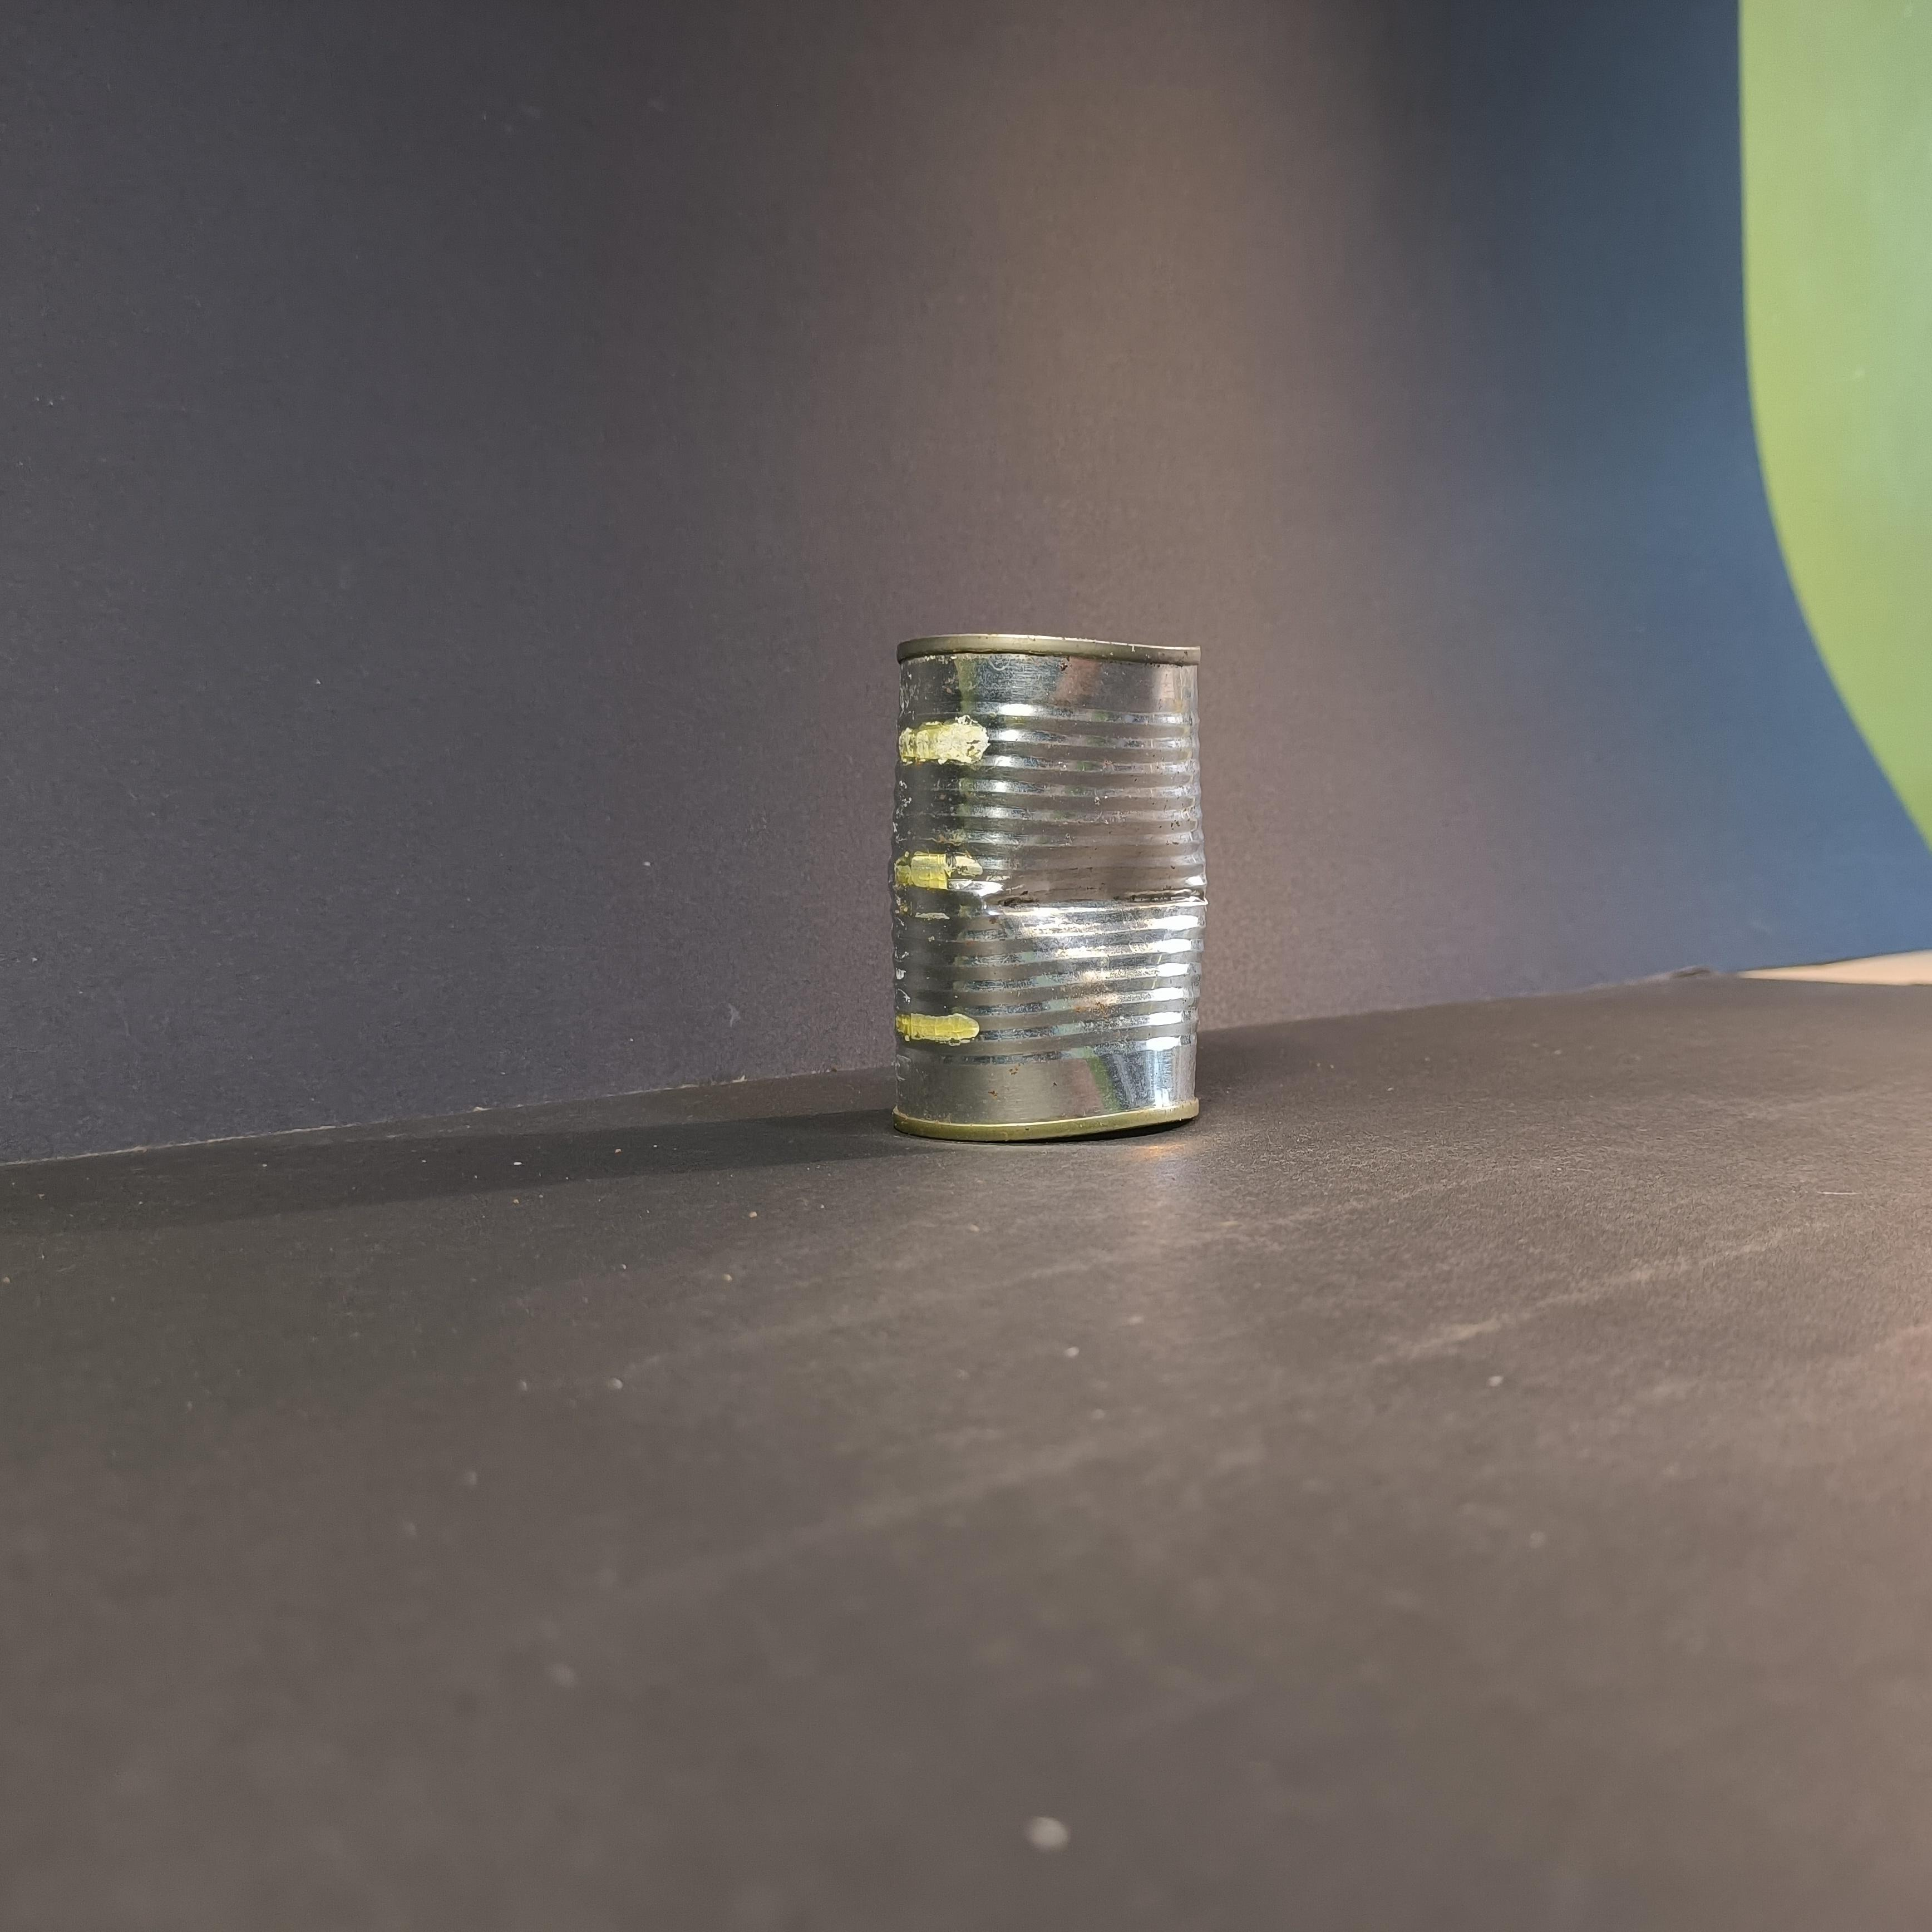Dented: (870, 603, 1235, 1143)
